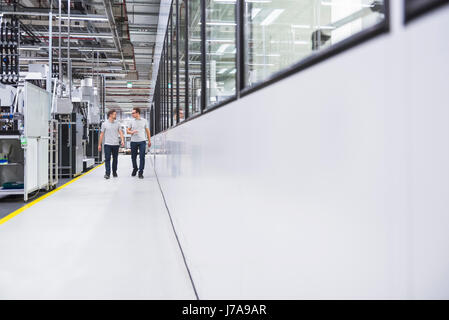person: (97, 109, 124, 179), (127, 107, 151, 179)
